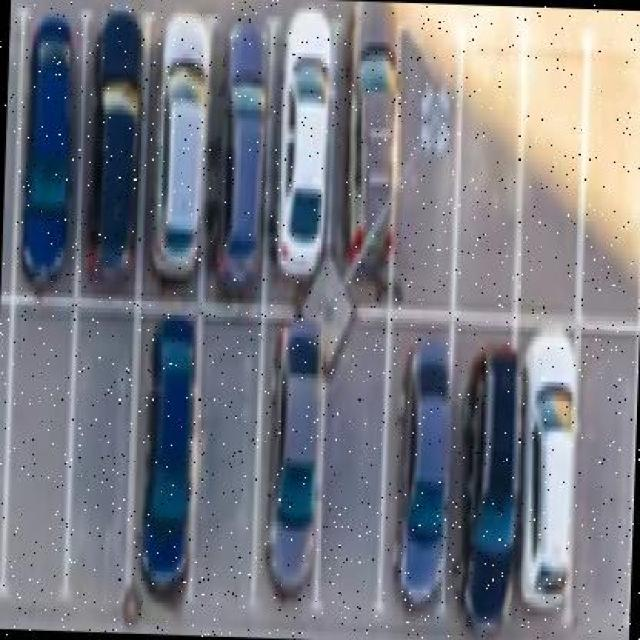Car: (333, 26, 401, 297), (215, 32, 275, 289), (155, 24, 213, 283), (264, 343, 318, 603), (272, 30, 332, 263), (142, 329, 198, 561), (529, 346, 581, 584), (403, 347, 450, 595), (91, 24, 140, 261), (467, 350, 515, 589), (30, 32, 75, 259), (21, 341, 67, 556)
Empty: (69, 327, 140, 575), (400, 70, 457, 278), (324, 376, 376, 589), (202, 372, 255, 578), (521, 84, 575, 281), (583, 372, 630, 584), (466, 69, 515, 260), (595, 90, 636, 295)
